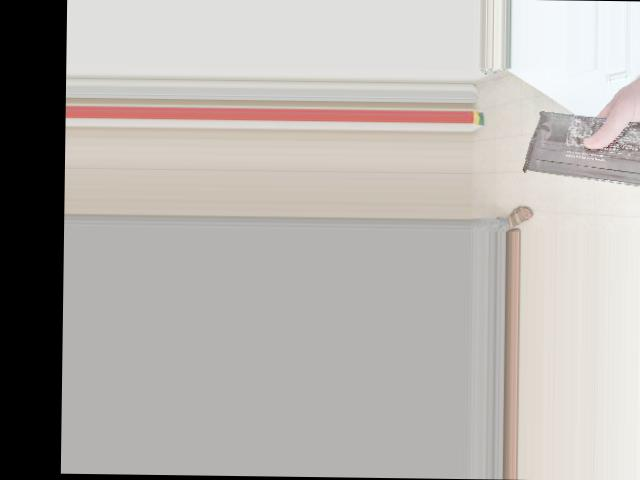chocolate: (518, 116, 640, 189)
